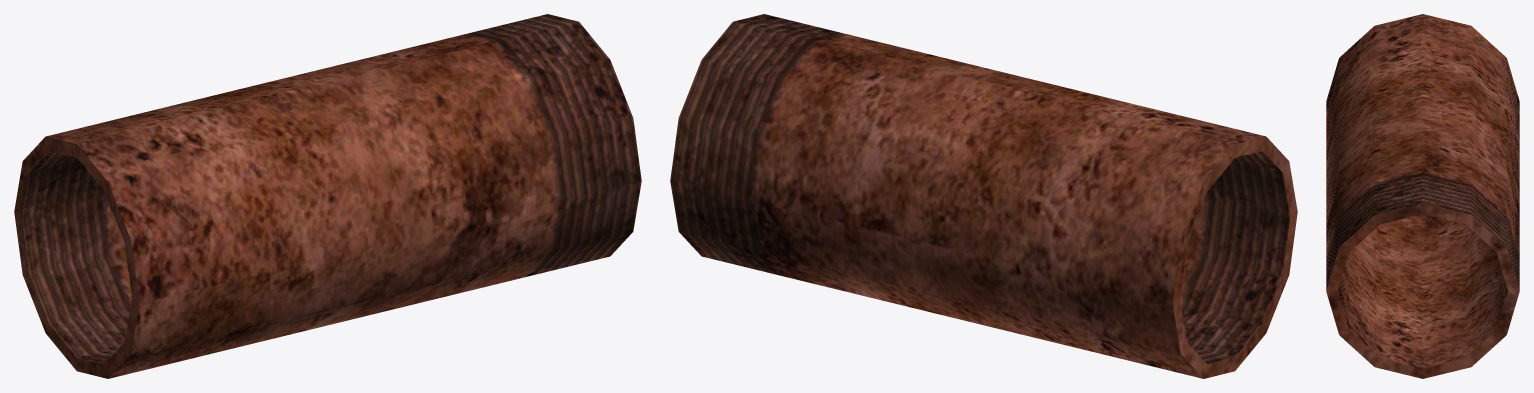
File: copper_tube.dae
3 views of the same model, side by side, from view 1: azimuth 30°, elevation 25°; view 2: azimuth 150°, elevation 25°; view 3: azimuth 270°, elevation 25° (orthographic). The views are drawn at different scales.
Parts seen in each view (by area): view 1: pPipe1; view 2: pPipe1; view 3: pPipe1.
Boxes of the visible parts, x1,y1,x2,y2 form: pPipe1: [14, 14, 641, 378]; pPipe1: [670, 14, 1297, 378]; pPipe1: [1326, 14, 1519, 378].
Bounding box in the file's own units: 0.2842 × 0.1227 × 0.1227.
